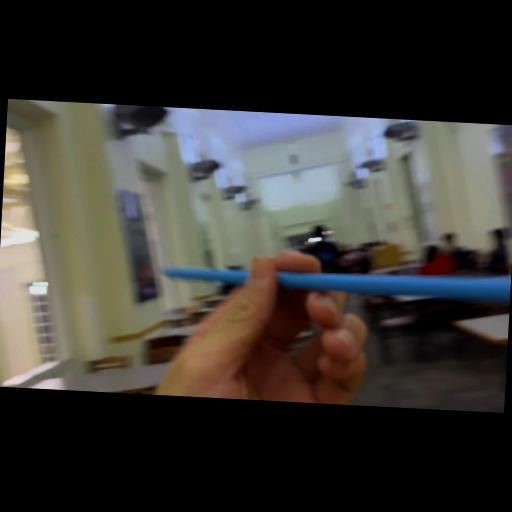straw: (142, 239, 512, 310)
